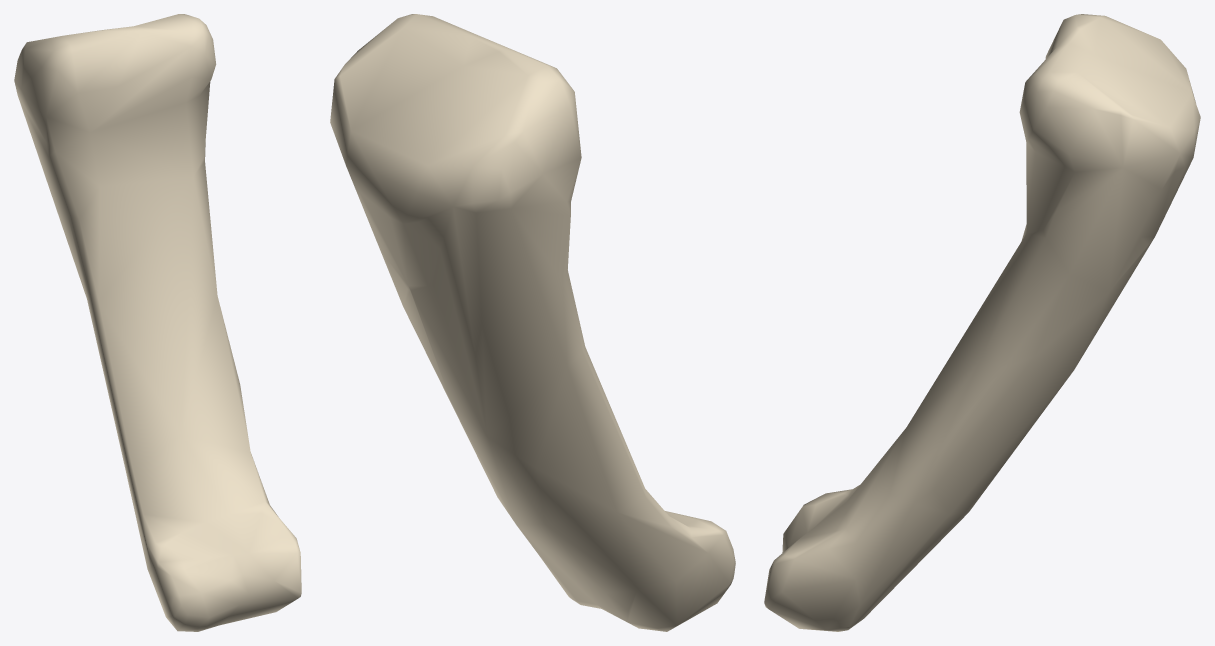
The model's file is proximal-phalanx-of-fourth-finger-of-hand-r.glb.
3 views of the same model, side by side, from view 1: azimuth 30°, elevation 25°; view 2: azimuth 150°, elevation 25°; view 3: azimuth 270°, elevation 25° (orthographic). The views are drawn at different scales.
Visible parts, largest first — view 1: Proximal phalanx of fourth finger of hand.r; view 2: Proximal phalanx of fourth finger of hand.r; view 3: Proximal phalanx of fourth finger of hand.r.
Part boxes in pixels (left/top/right/bottom): Proximal phalanx of fourth finger of hand.r: left=14, top=14, right=301, bottom=631; Proximal phalanx of fourth finger of hand.r: left=330, top=14, right=735, bottom=631; Proximal phalanx of fourth finger of hand.r: left=764, top=14, right=1200, bottom=631.
Size of the model in its own units: 0.0139 by 0.0404 by 0.0273.
